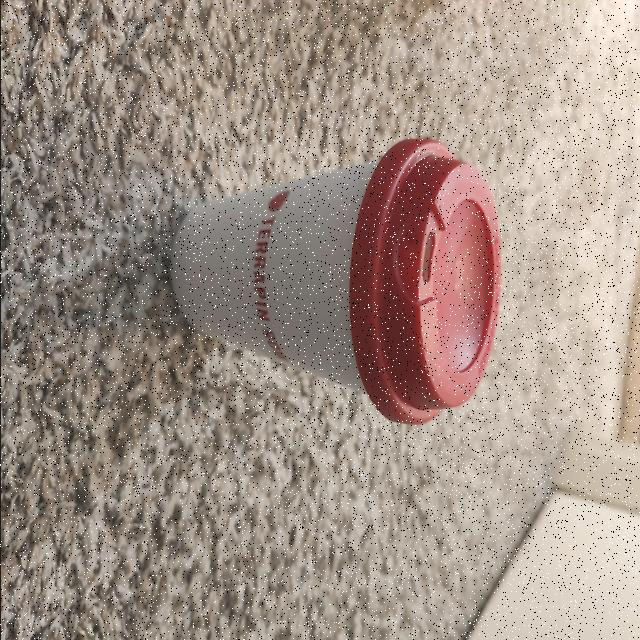mug: (177, 125, 503, 442)
